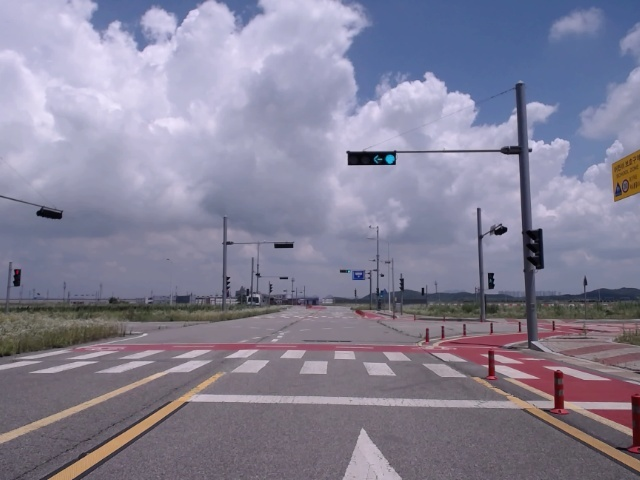all_green_4: (347, 147, 400, 166)
